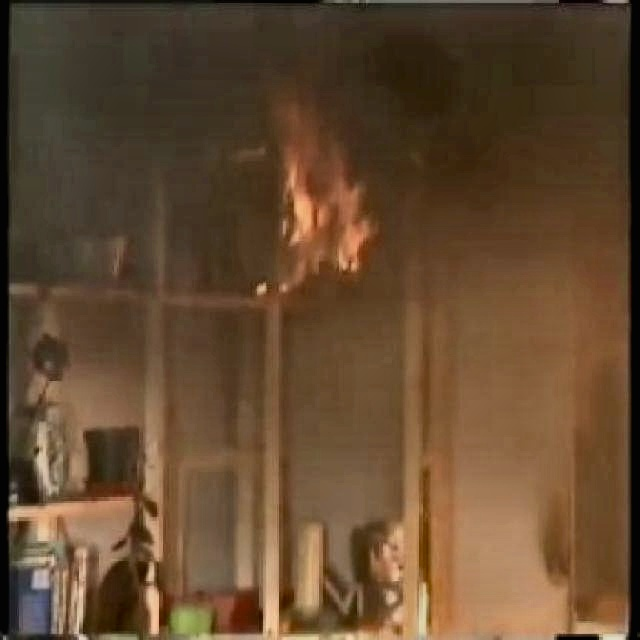fire: (244, 101, 390, 280)
